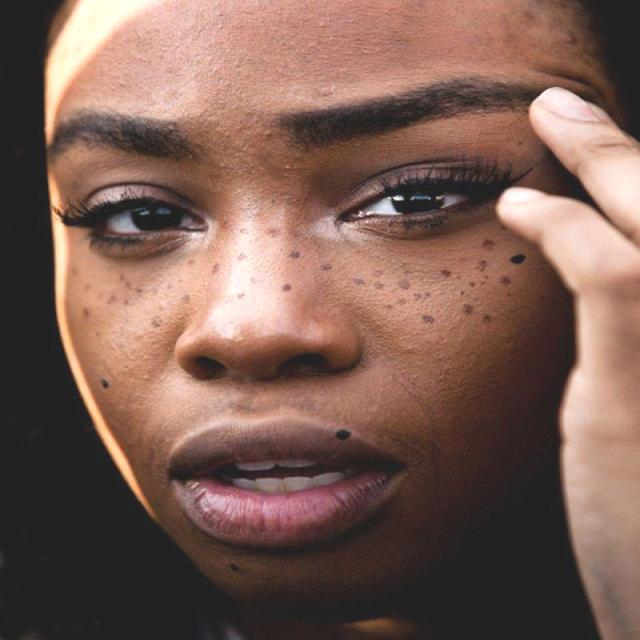freckle: (67, 239, 561, 353)
